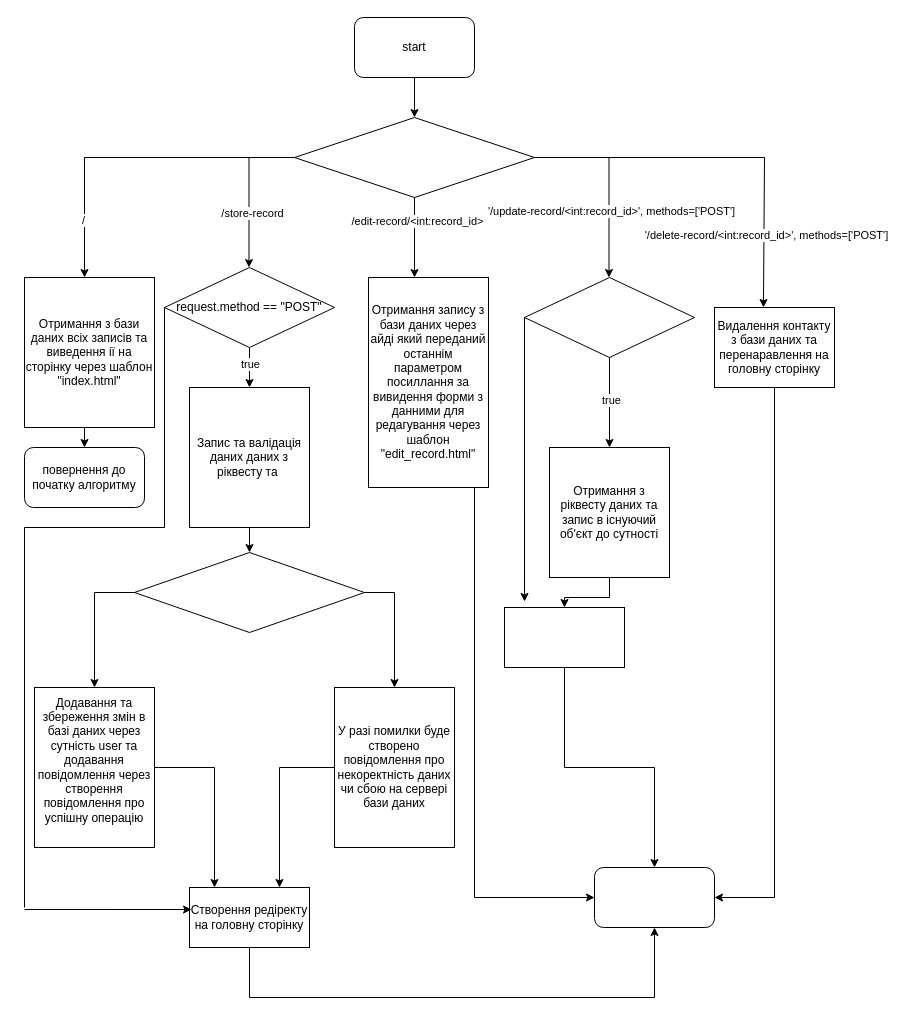
Image size: 906x1023. Some labels were removed from this diagram. The centre of each missing label's shape, as x and y in pixels:
"@app.route" goes at [414,157].
"try" goes at [249,592].
"валідація введених даних" goes at [609,317].
"Перенаправлення на головну сторінку" goes at [564,637].
"Повернення до головної сторінки (index.html) разом зі змінами" goes at [654,897].
